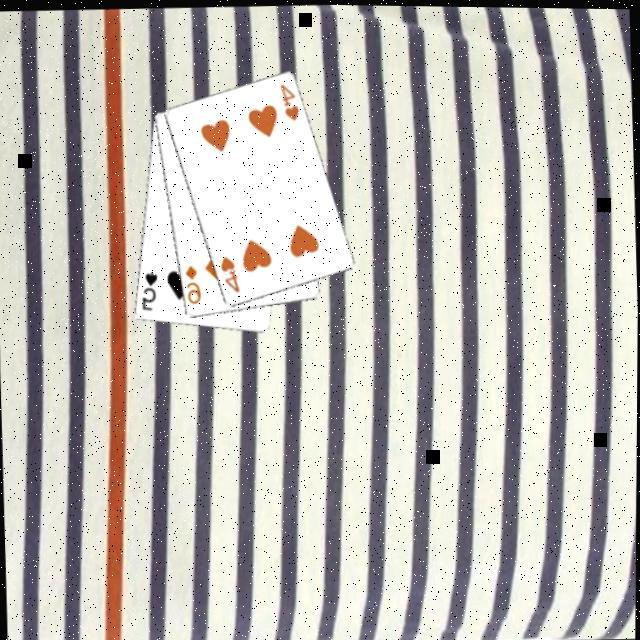4H: (218, 254, 243, 296), (278, 82, 302, 125)
5S: (138, 270, 162, 316)
9D: (182, 264, 205, 310)
